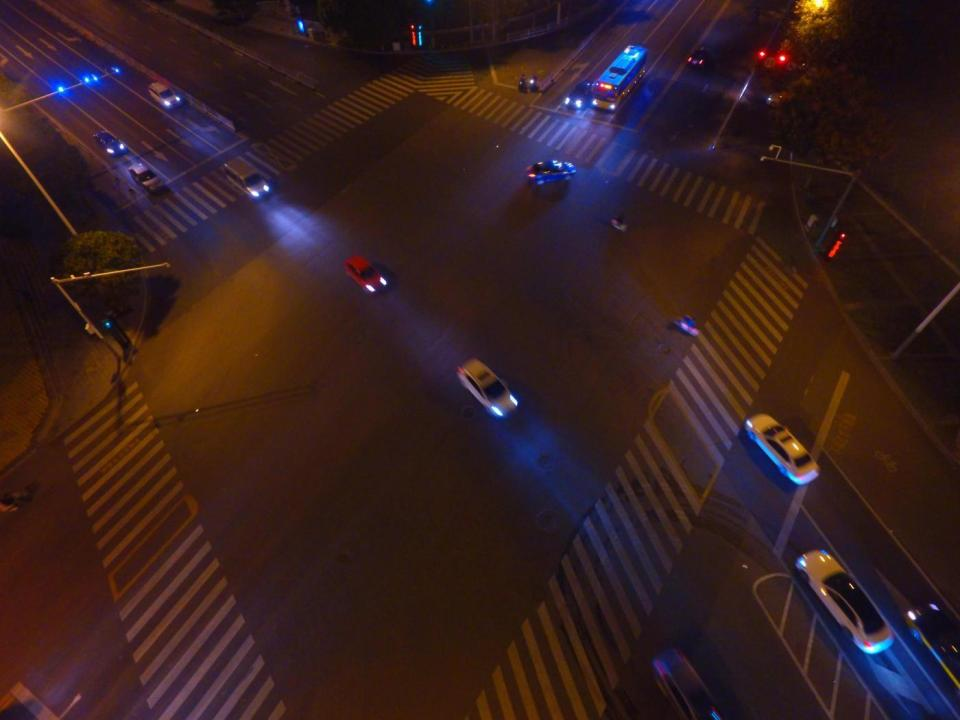bus: (591, 44, 649, 110)
car: (795, 548, 894, 653), (747, 412, 817, 489), (652, 649, 726, 720), (906, 600, 960, 692), (454, 359, 518, 422), (343, 255, 386, 297), (526, 159, 575, 188), (564, 80, 597, 111), (129, 163, 163, 193), (148, 83, 180, 112), (94, 131, 125, 158), (687, 46, 710, 69)
van: (222, 155, 268, 201)
